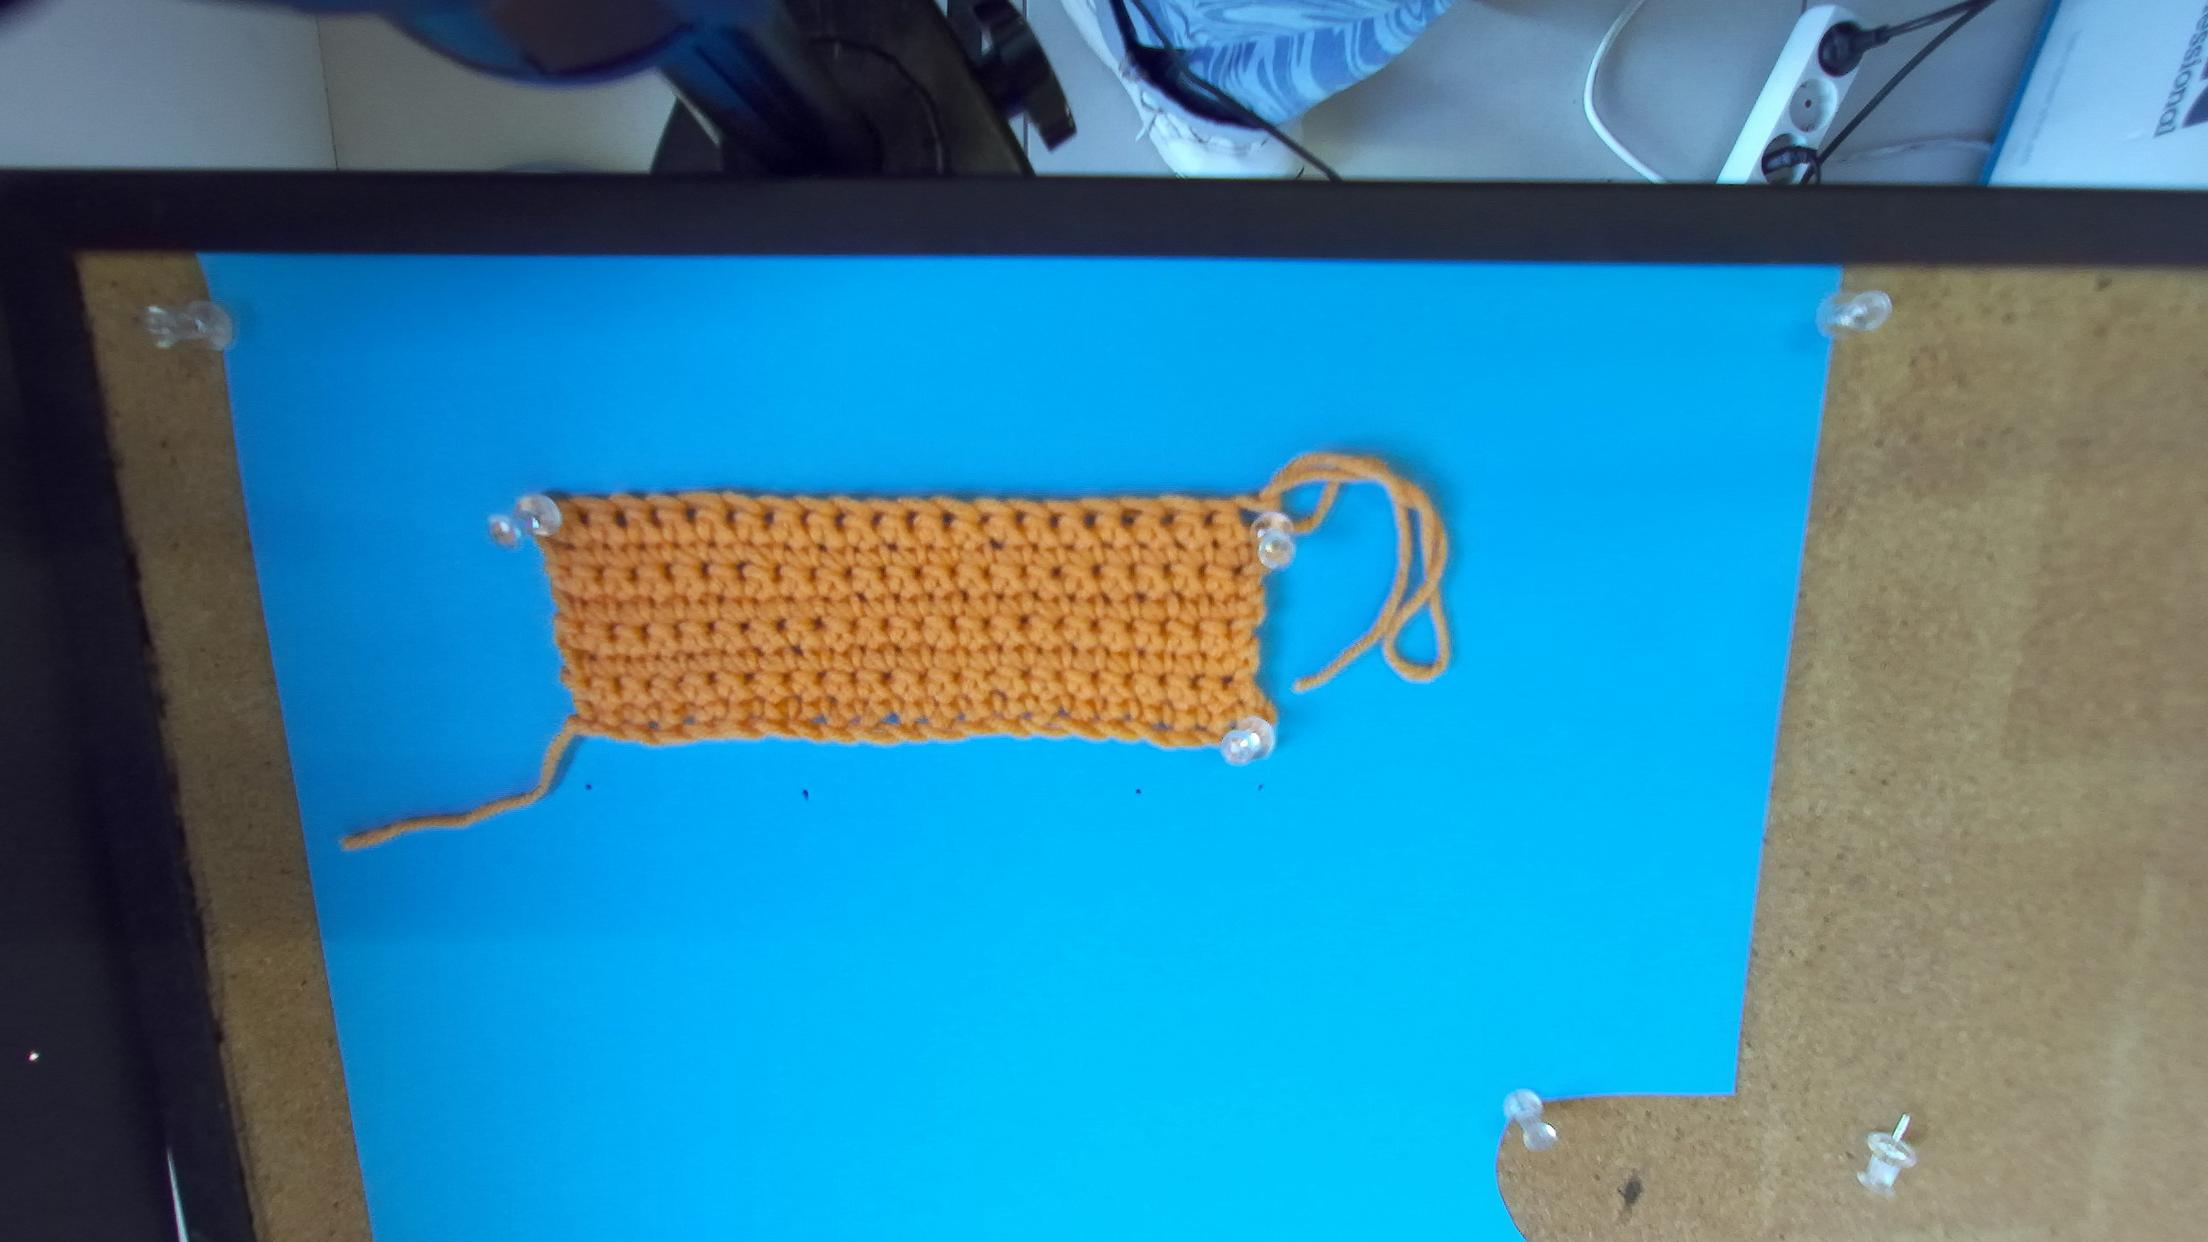hole: (1236, 503, 1260, 528), (1159, 510, 1181, 526), (795, 508, 813, 528), (648, 505, 661, 529), (940, 511, 955, 532), (1081, 510, 1098, 528), (1121, 510, 1139, 526), (870, 511, 884, 532), (1203, 511, 1219, 528), (761, 508, 776, 526), (833, 513, 848, 531), (1048, 511, 1063, 529), (613, 510, 626, 529), (905, 511, 919, 529), (576, 510, 590, 526), (977, 514, 993, 528), (684, 507, 696, 525), (725, 508, 737, 526), (1015, 510, 1027, 526)
swatch: (503, 491, 1277, 764)
